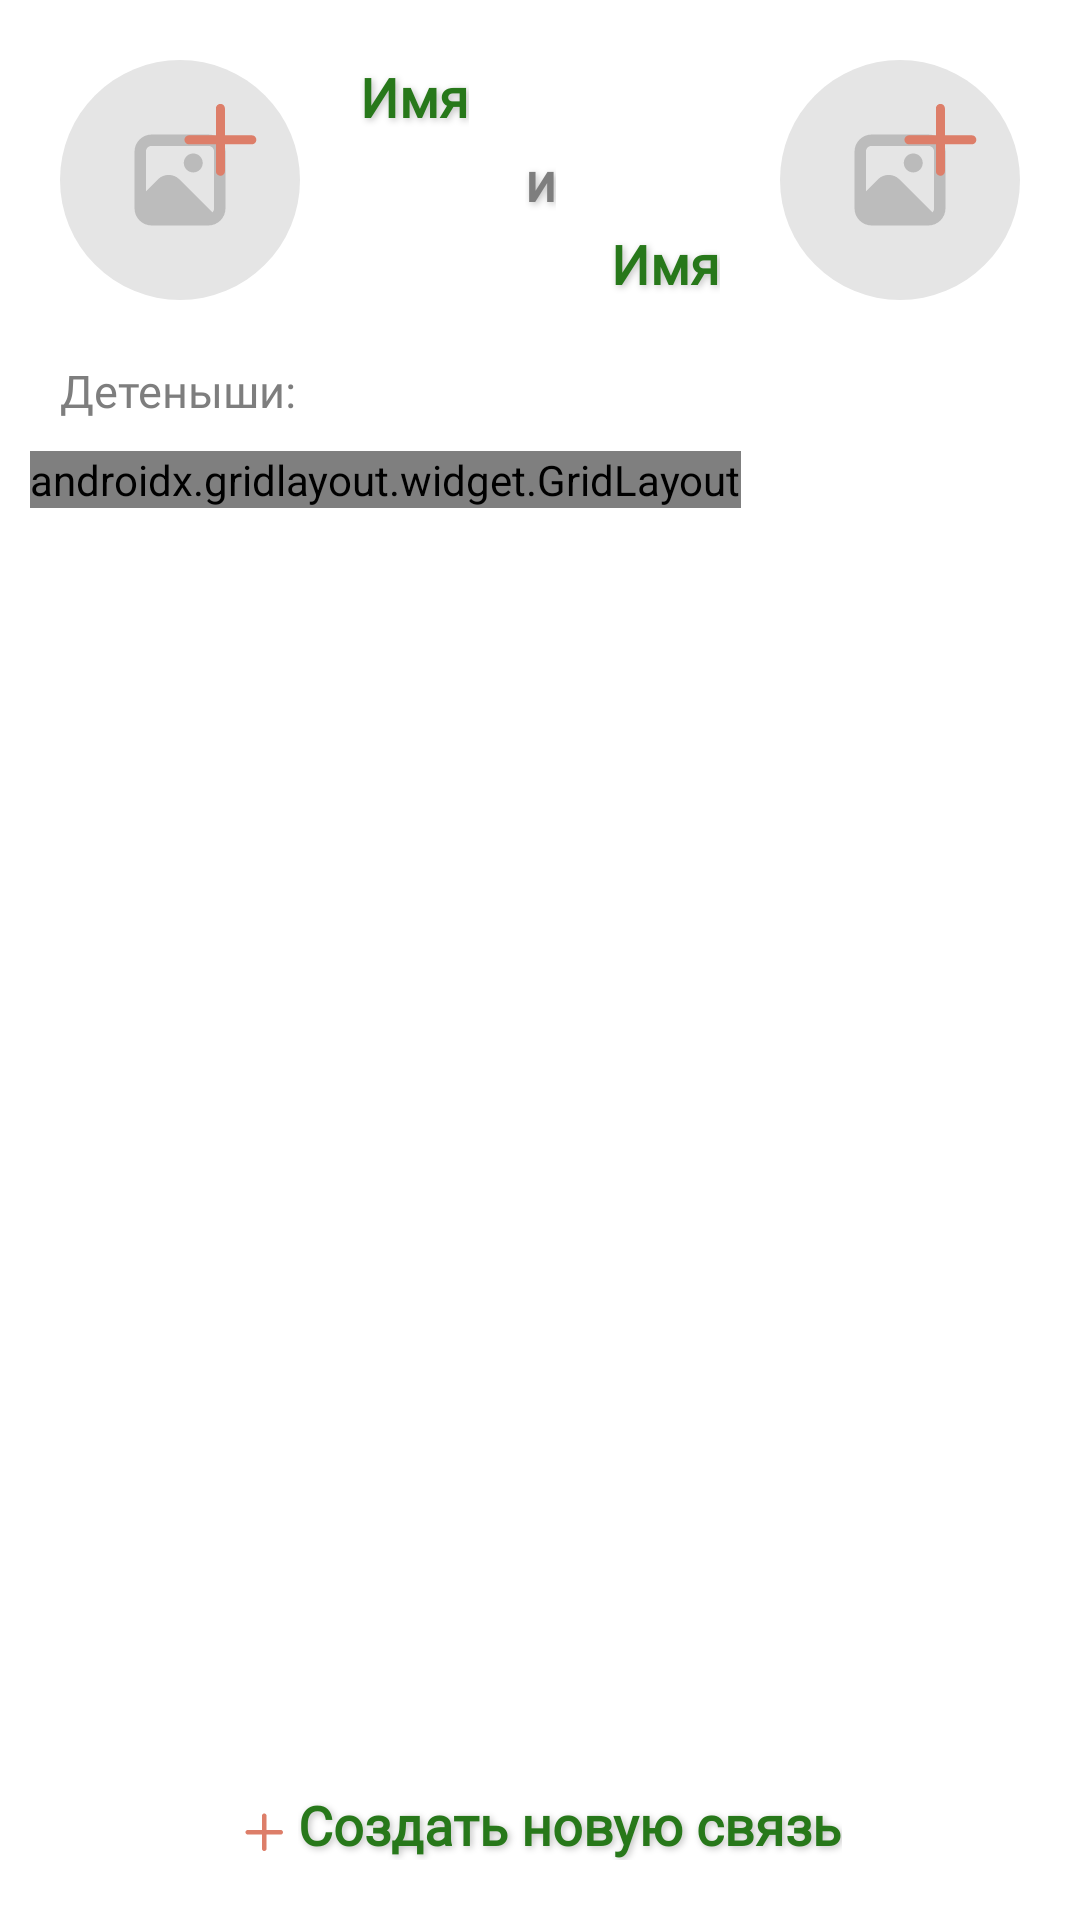

Icon bounding boxes for this 1080px×1920px phone screenshot, format (x1, y1, x2, y2):
photo profile: (60, 60, 300, 300), (780, 60, 1020, 300)
plusred: (245, 1813, 283, 1851)
